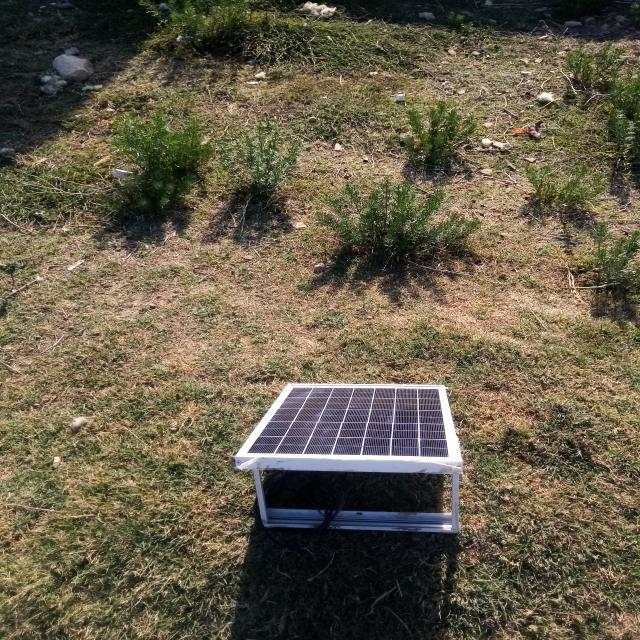no faulty: (237, 384, 462, 466)
